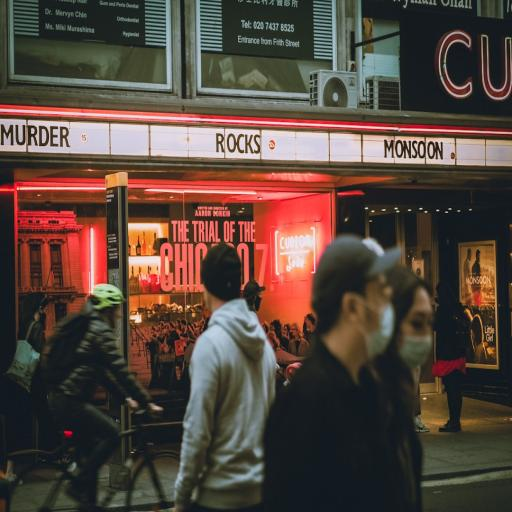face: (397, 287, 433, 350), (364, 275, 392, 332)
